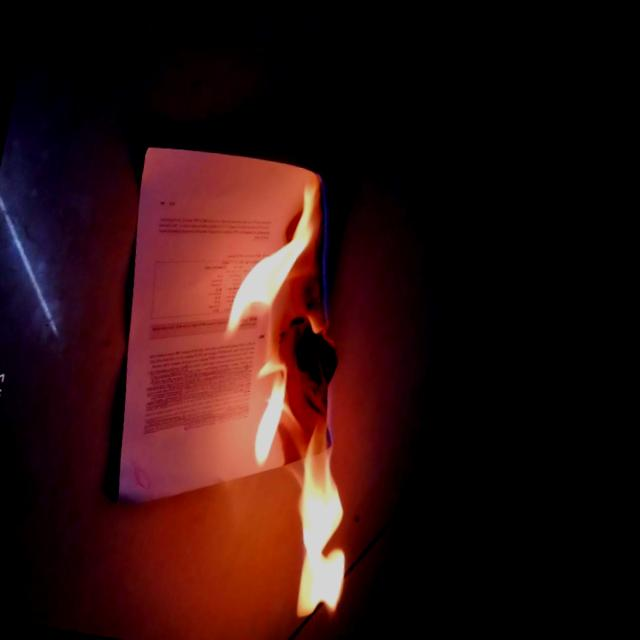helmet: (173, 160, 428, 624)
